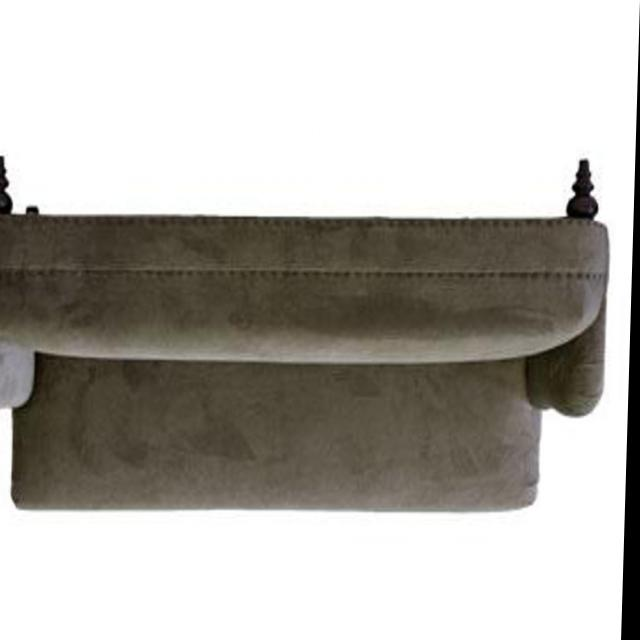Sofa: (0, 162, 612, 509)
